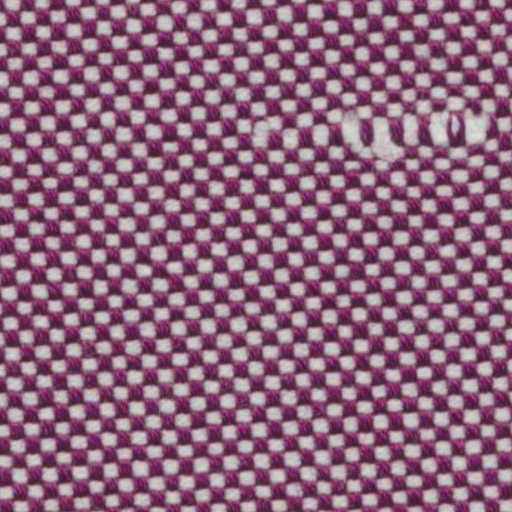DaiSha: (244, 106, 502, 174)
